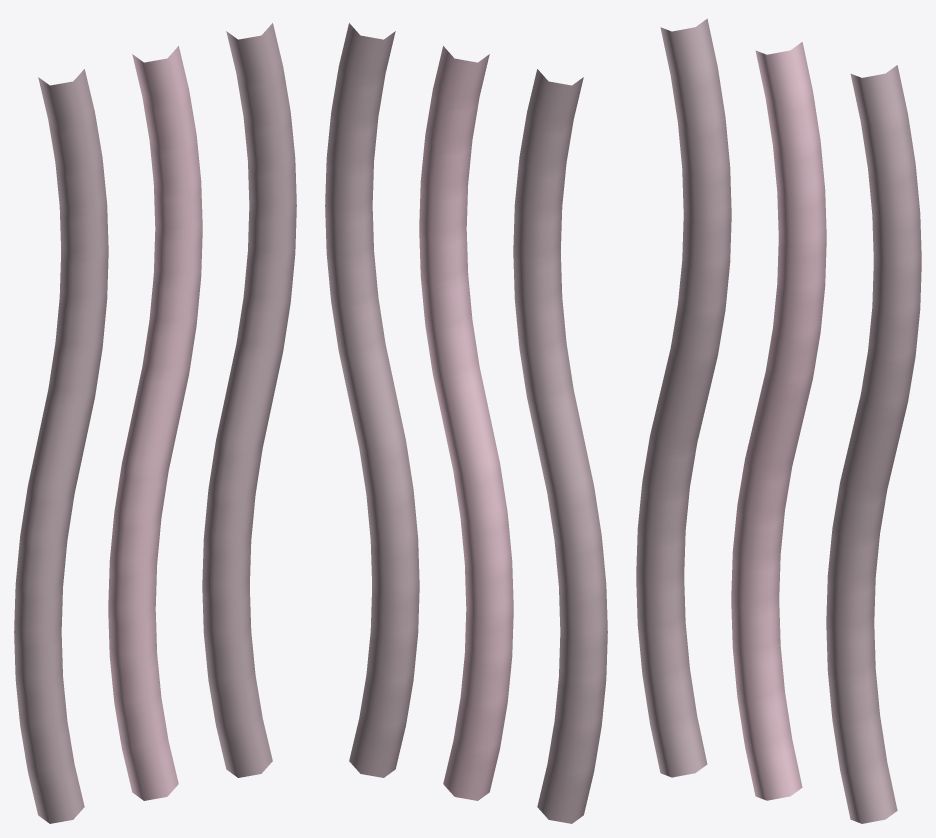
The model's file is decor_6_candy.glb.
3 views of the same model, side by side, from view 1: azimuth 30°, elevation 25°; view 2: azimuth 150°, elevation 25°; view 3: azimuth 330°, elevation 25° (orthographic).
Parts seen in each view (by area): view 1: decor_6_candy; view 2: decor_6_candy; view 3: decor_6_candy.
Boxes of the visible parts, bbox=[...] form: decor_6_candy: bbox=[14, 23, 296, 823]; decor_6_candy: bbox=[325, 23, 607, 823]; decor_6_candy: bbox=[636, 18, 921, 823].
Size of the model in its own units: 4.61 by 12.14 by 0.7.
